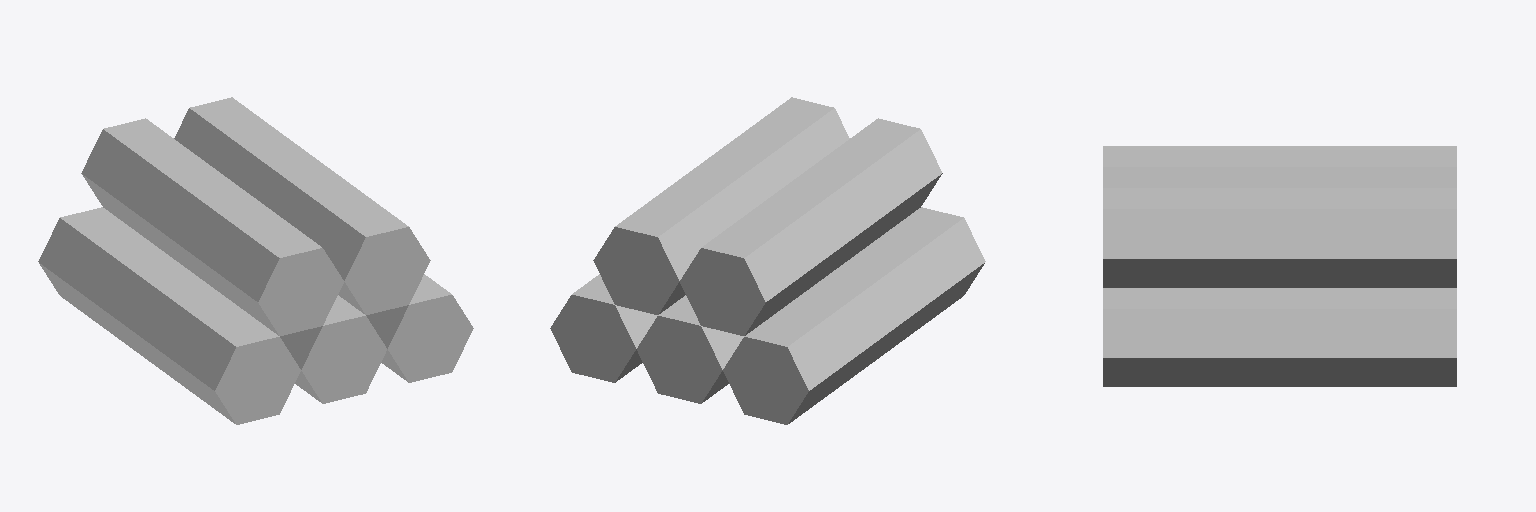
File: logs_stackLarge.obj
3 renders of one model, left to right at view 1: azimuth 30°, elevation 25°; view 2: azimuth 150°, elevation 25°; view 3: azimuth 270°, elevation 25°, orthographic.
Parts seen in each view (by area): view 1: logs_stackLarge; view 2: logs_stackLarge; view 3: logs_stackLarge.
Boxes of the visible parts, box(x1,y1,x2,y2) form: logs_stackLarge: box(38, 97, 473, 424); logs_stackLarge: box(550, 97, 985, 424); logs_stackLarge: box(1103, 146, 1456, 386).
Size of the model in its own units: 0.36 by 0.2078 by 0.426.